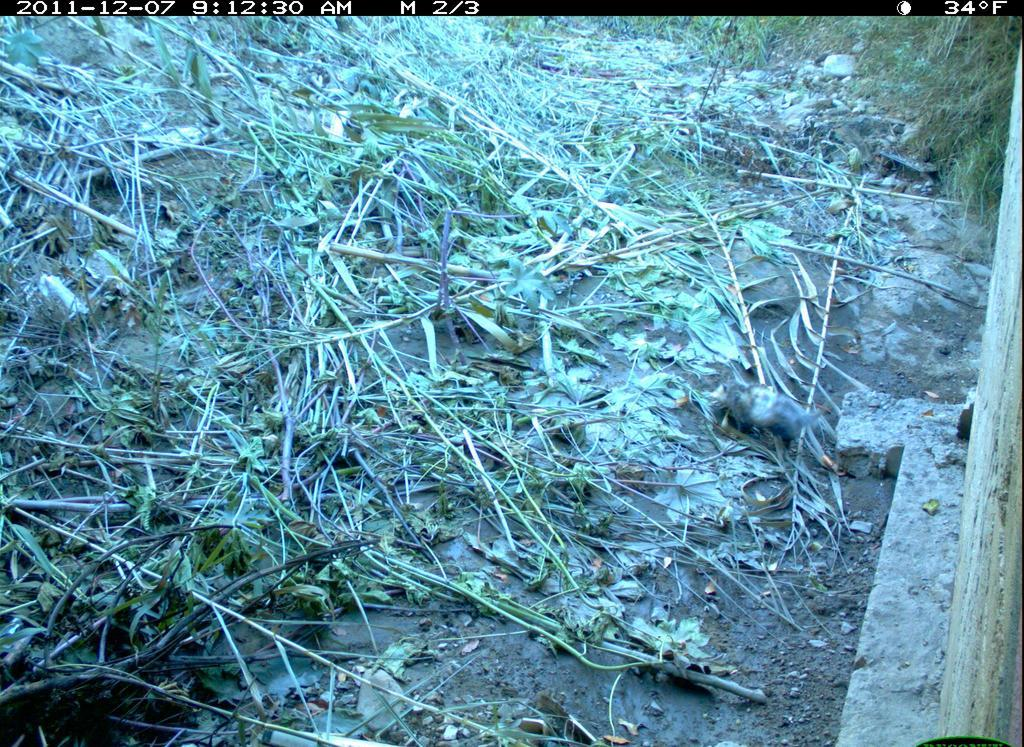opossum: (707, 367, 820, 454)
